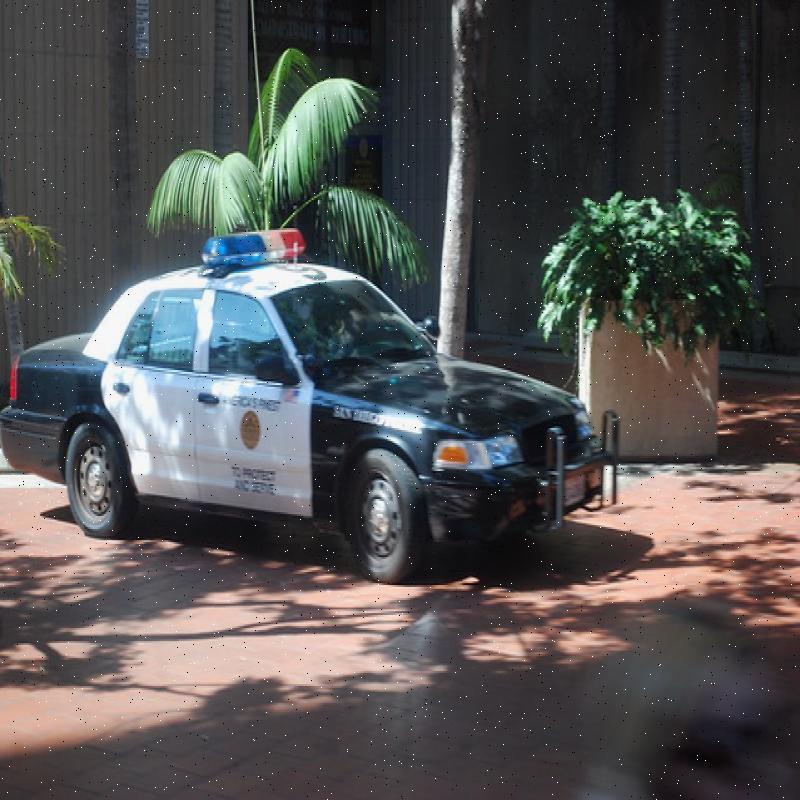AmbulanceSiren: (184, 208, 324, 280)
